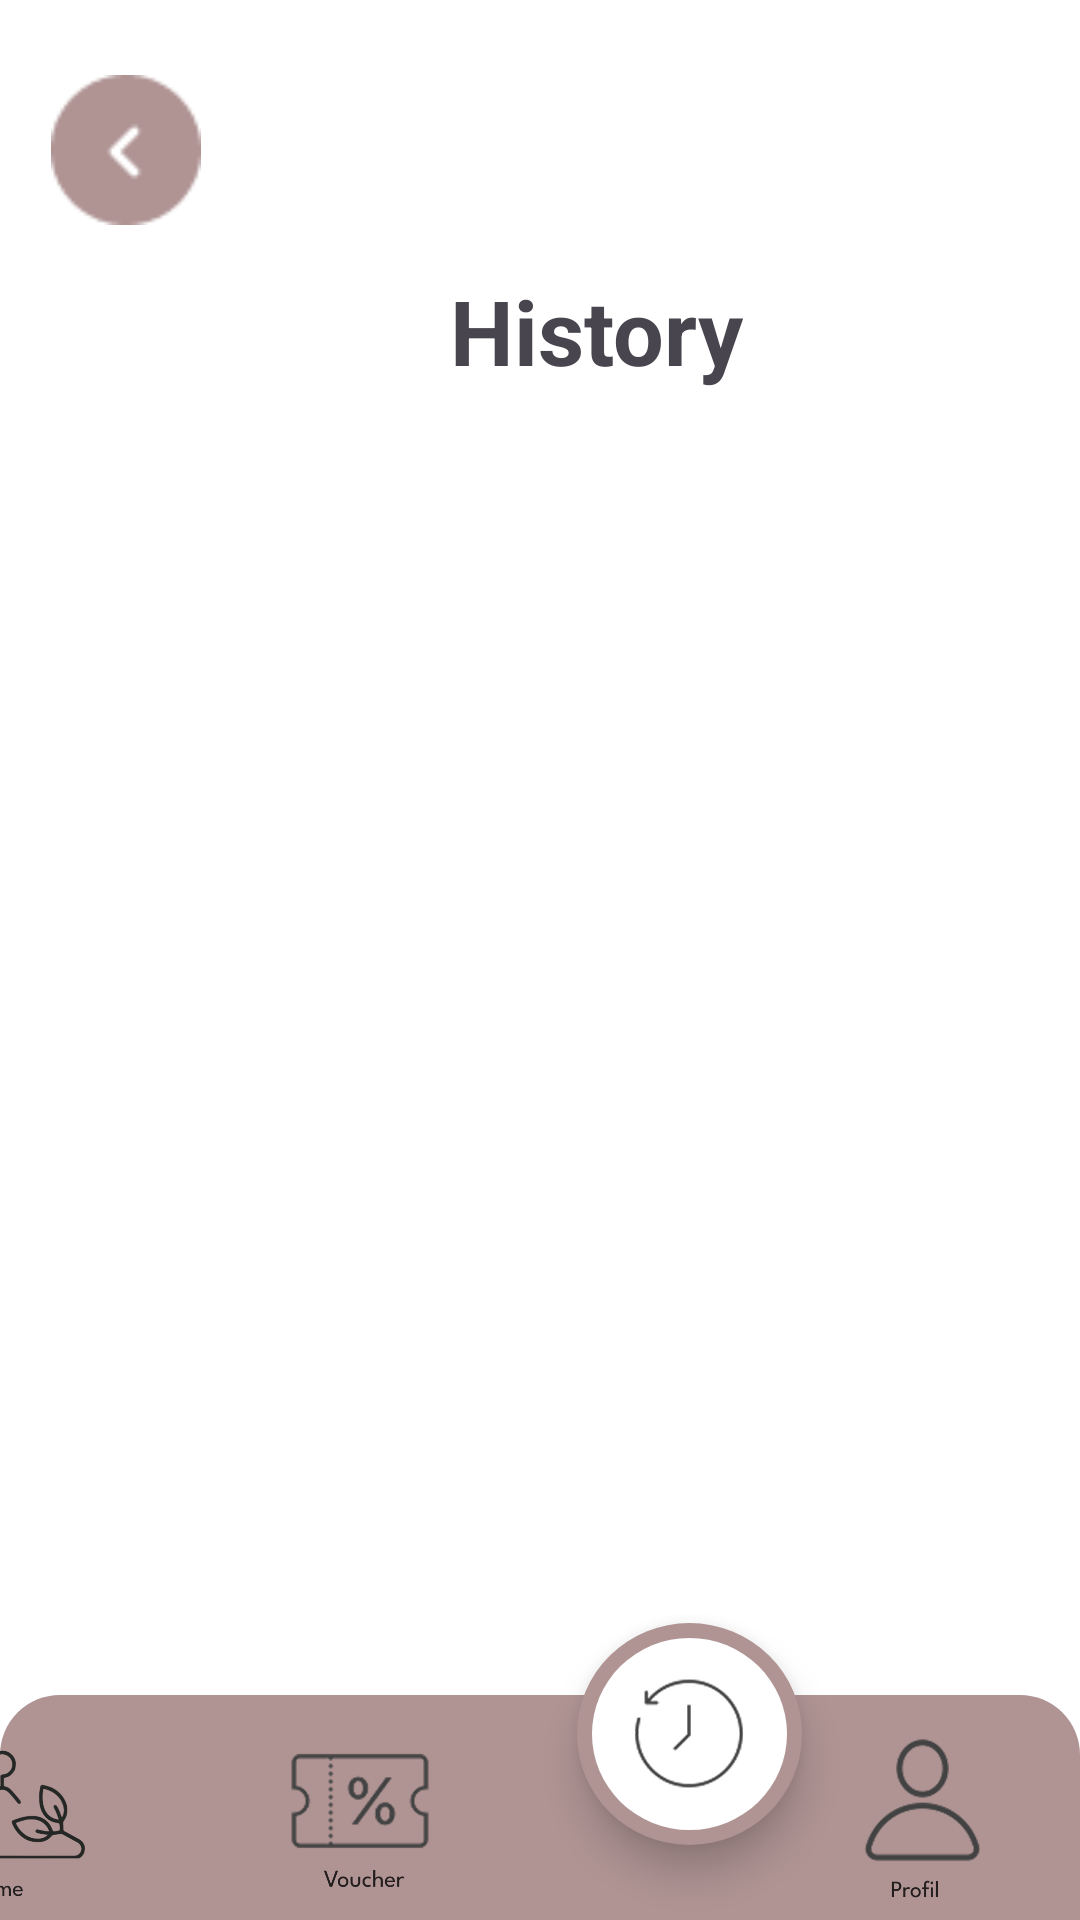

Point at icon controls on the screen. Image size 1080*1920, points as point (x, y).
back home: point (126, 150)
historynew: point (689, 1733)
